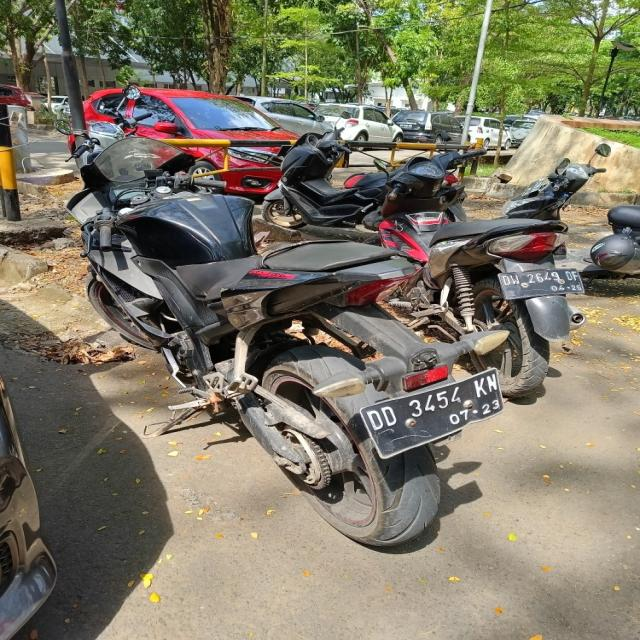plates: (354, 372, 519, 454)
